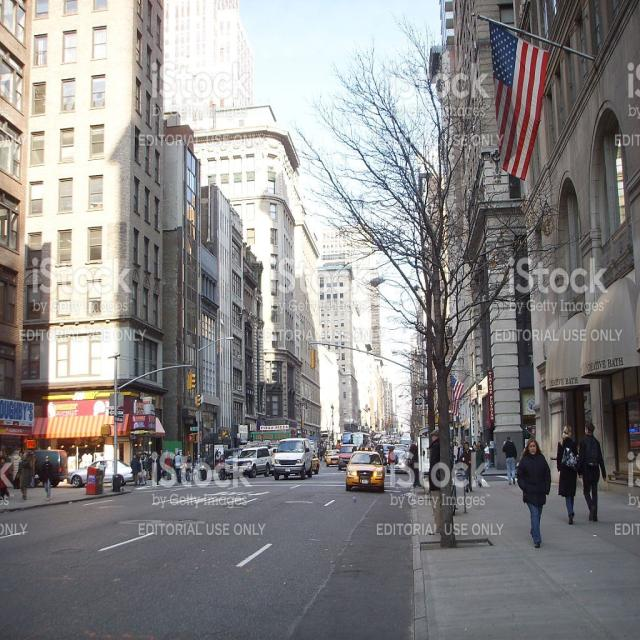body: (516, 437, 552, 548), (576, 420, 608, 522), (556, 423, 581, 526), (427, 427, 442, 536), (405, 438, 423, 488), (502, 434, 518, 485), (458, 441, 473, 493), (40, 454, 54, 502), (18, 452, 30, 501), (474, 441, 486, 487), (388, 446, 400, 488), (0, 459, 12, 500), (156, 448, 168, 482), (130, 452, 141, 488), (12, 449, 23, 481), (152, 452, 162, 487), (174, 448, 183, 485), (140, 452, 148, 486), (212, 446, 222, 472), (483, 440, 491, 469), (185, 450, 192, 483), (140, 452, 146, 487), (171, 452, 178, 481), (456, 442, 466, 462), (0, 451, 10, 467), (453, 441, 459, 465), (318, 445, 324, 462), (470, 442, 478, 452), (316, 447, 320, 461), (188, 453, 192, 462)
